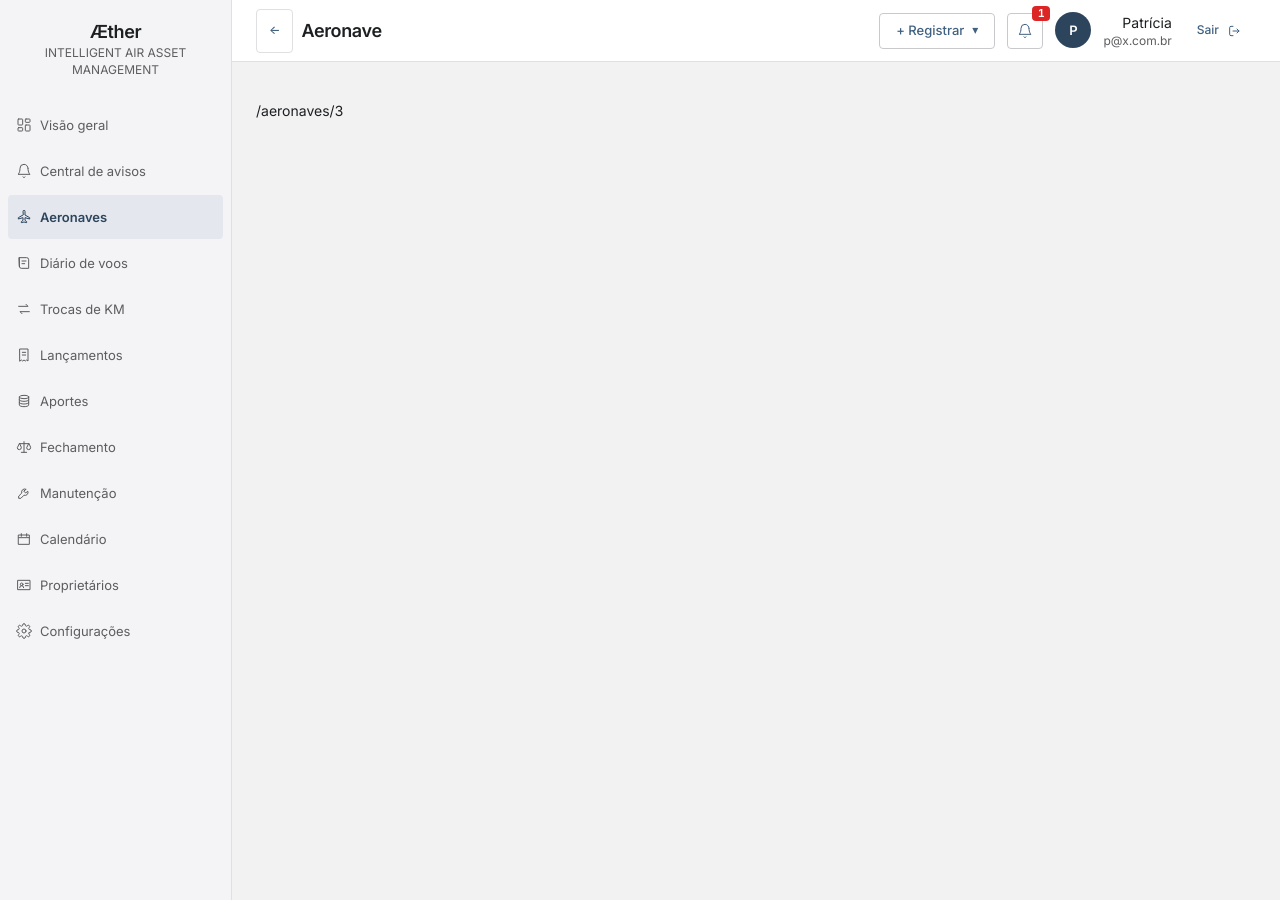
Test: LayoutDaAplicacao › o voltar só aparece em tela interna e, sem histórico, leva à tela de cima
Click the button named "Voltar" at (275, 30), box left=256, top=8, right=294, bottom=52
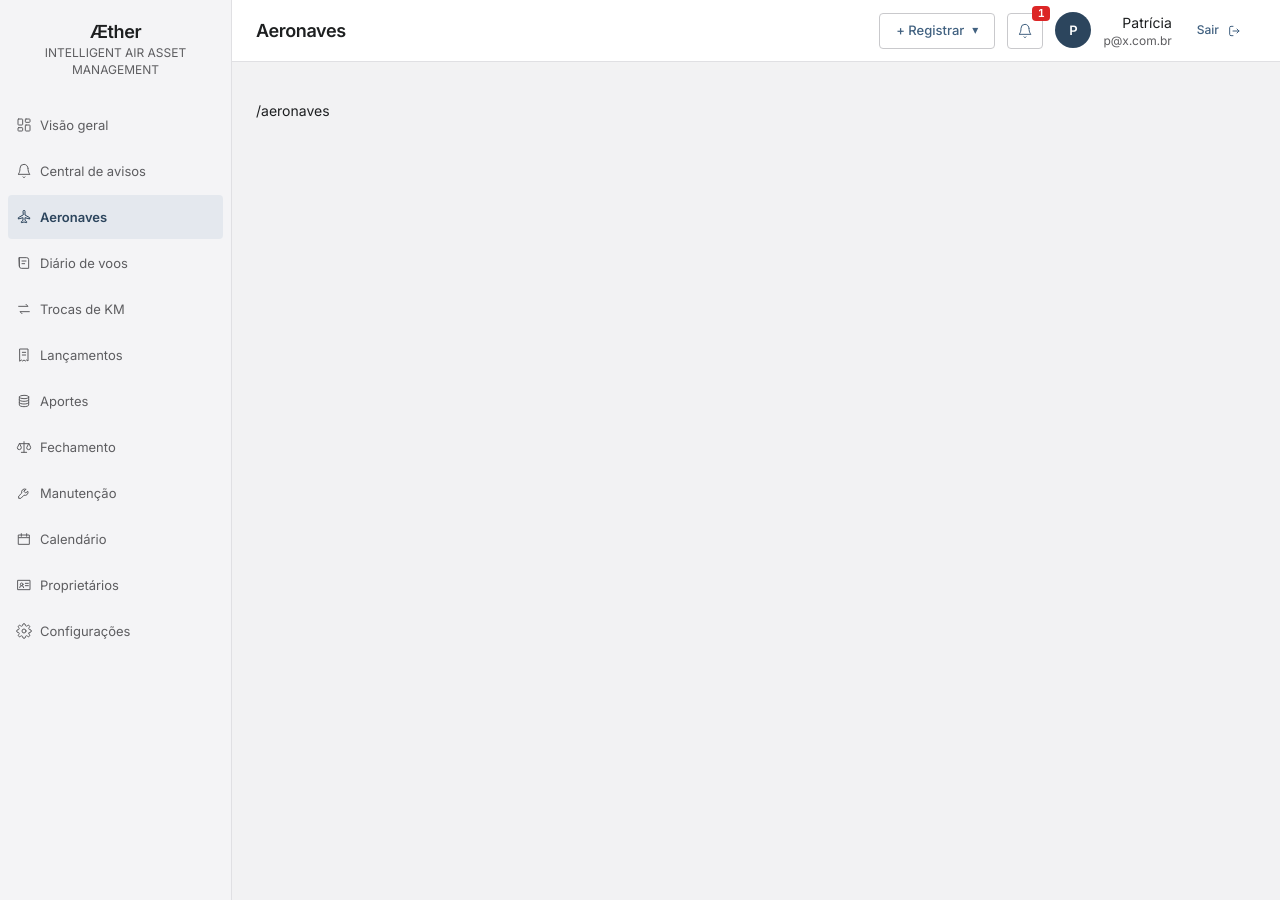
Expected: the text with test id "endereco" reads "/aeronaves", left=256, top=102, right=330, bottom=119
Expected: the button "Voltar" is gone
